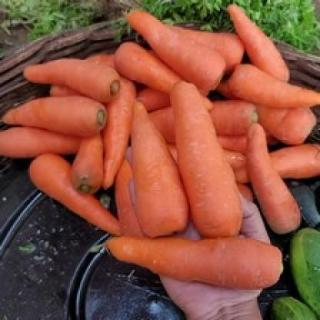Wortel: (168, 81, 244, 238), (103, 236, 284, 290), (126, 8, 229, 96), (29, 155, 122, 236), (247, 123, 306, 236), (23, 56, 126, 111), (1, 96, 112, 142)
